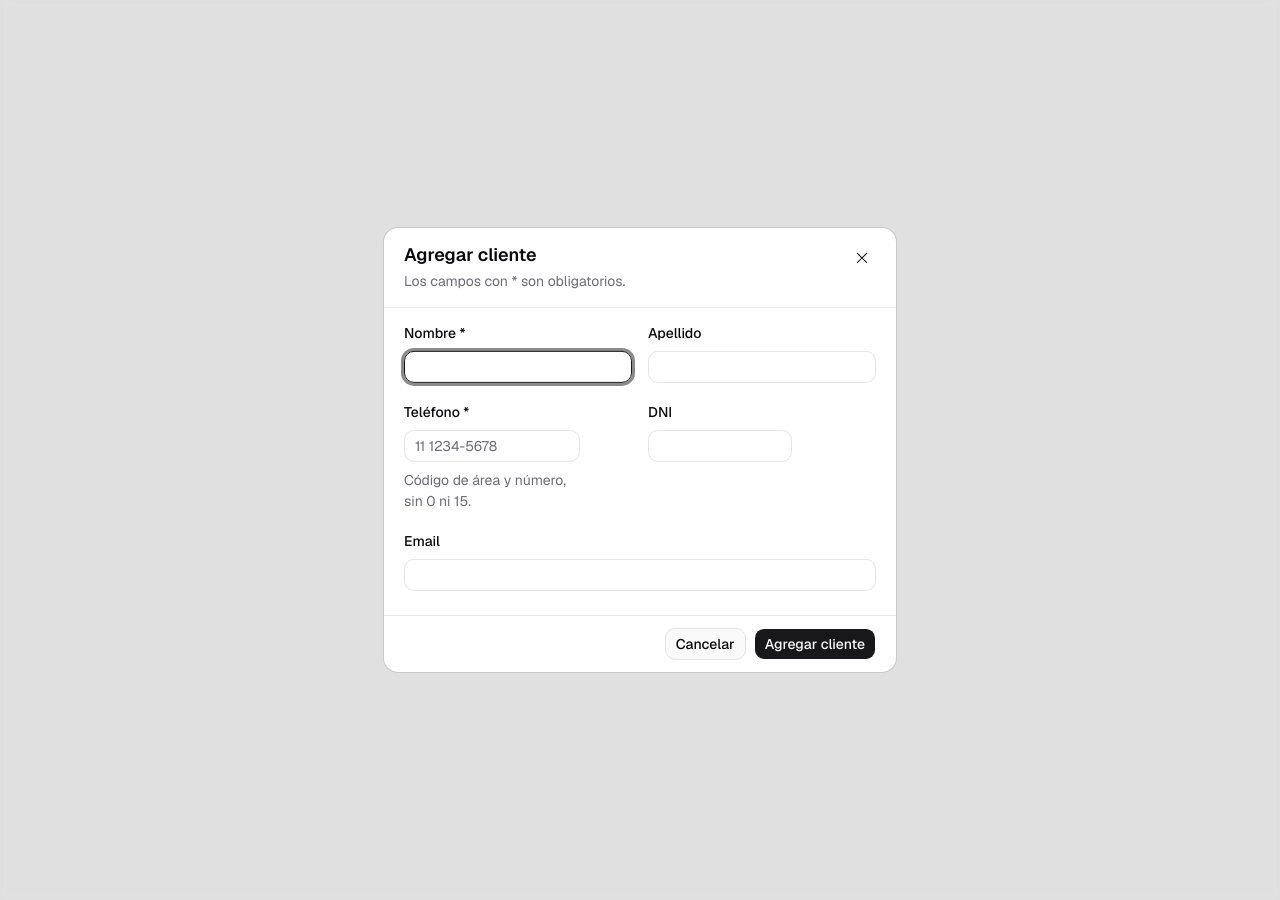
Scenario: ClientModal: create › holds at most 10 digits and drops a leading 0, also when pasted
Expected: the dialog is shown, [384, 228, 896, 672]
Type "111234567899999" into the field labelled "Teléfono *" at (492, 446), box [404, 430, 580, 462]
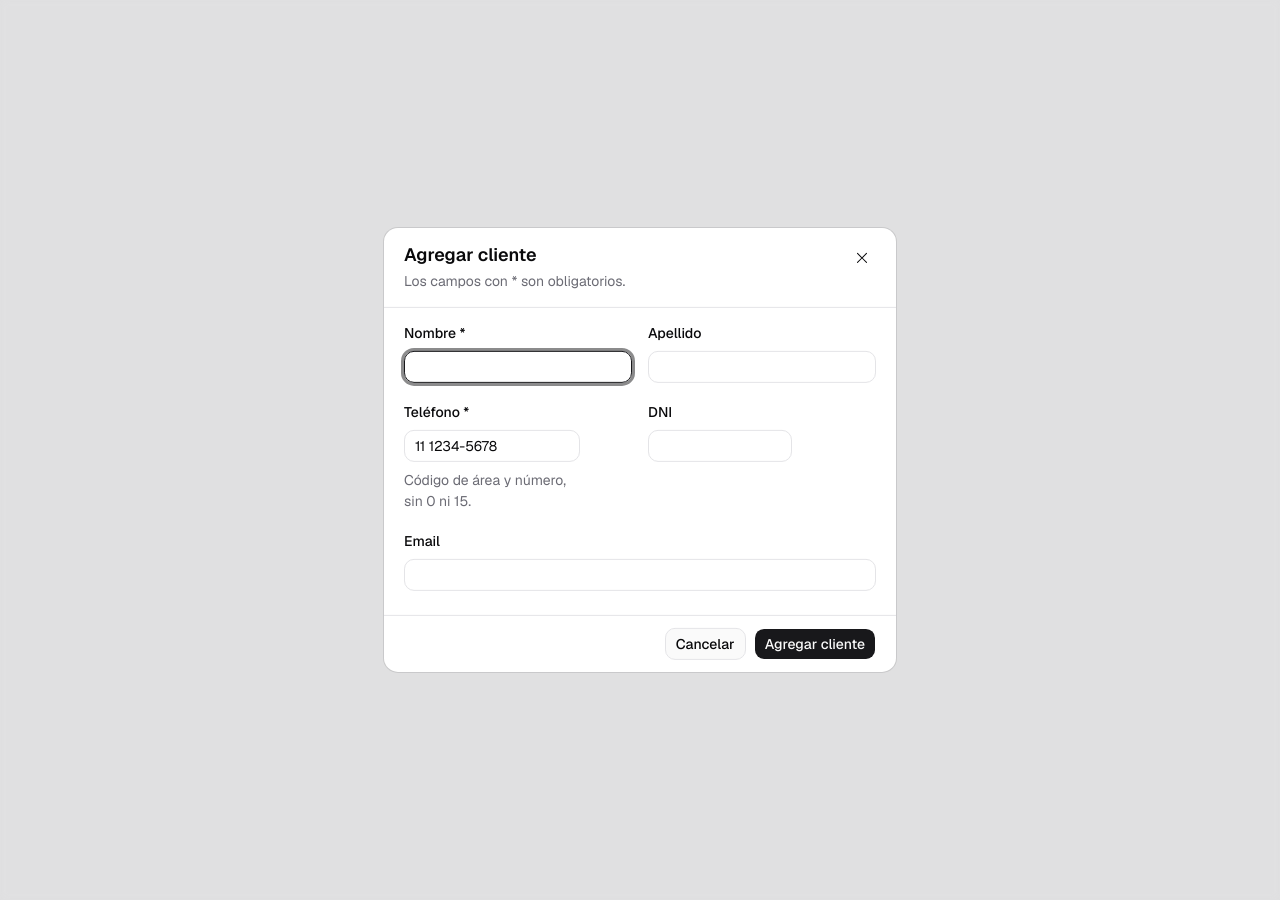
Expected: the field labelled "Teléfono *" holds "11 1234-5678"
Type "011 4444-5555" into the field labelled "Teléfono *" at (492, 446), box [404, 430, 580, 462]
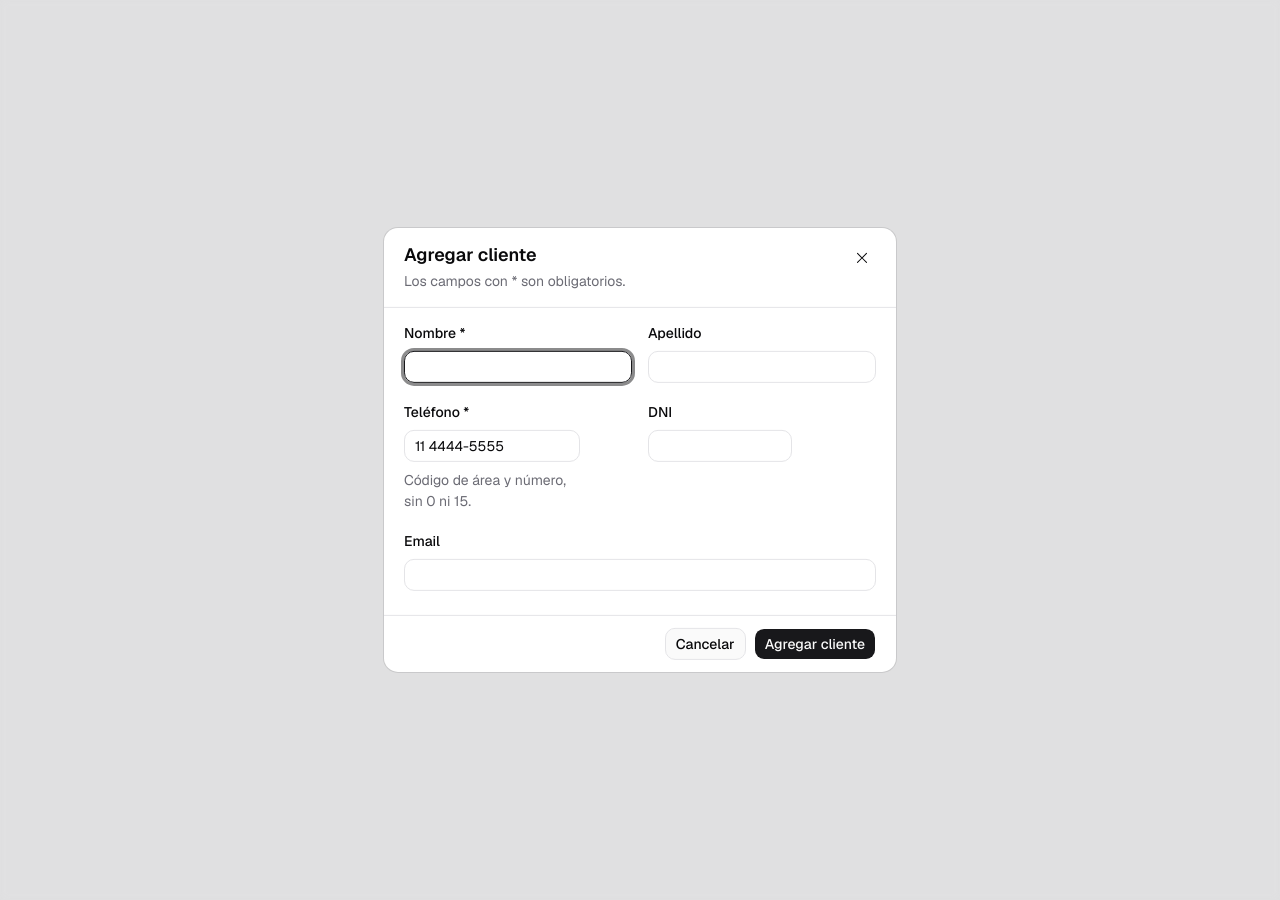
Expected: the field labelled "Teléfono *" holds "11 4444-5555", [404, 430, 580, 462]
